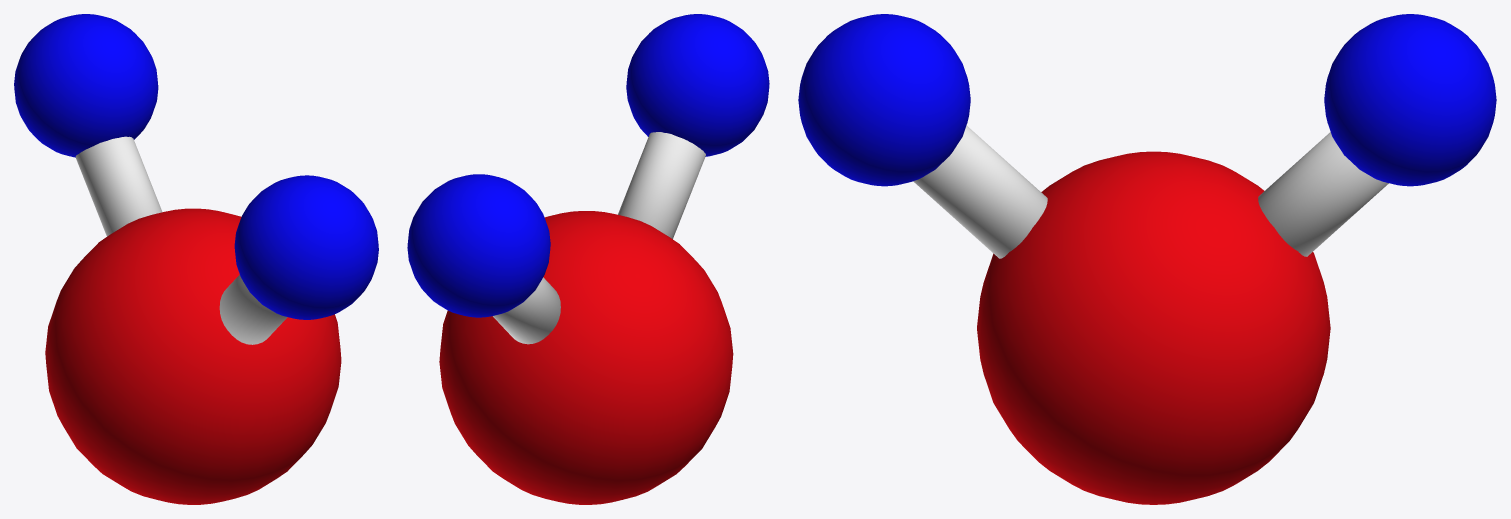
File: atom_water.glb
3 views of the same model, side by side, from view 1: azimuth 30°, elevation 25°; view 2: azimuth 150°, elevation 25°; view 3: azimuth 270°, elevation 25° (orthographic). The views are drawn at different scales.
Visible parts, largest first — view 1: Сфера, Сфера.001, Сфера.002, Цилиндр.001, Цилиндр; view 2: Сфера, Сфера.002, Сфера.001, Цилиндр, Цилиндр.001; view 3: Сфера, Сфера.002, Сфера.001, Цилиндр, Цилиндр.001.
Part boxes in pixels (box(x1,y1,x2,y2)): Сфера: box(45, 208, 341, 504); Сфера.001: box(234, 175, 378, 319); Сфера.002: box(14, 14, 158, 157); Цилиндр.001: box(75, 136, 162, 236); Цилиндр: box(219, 274, 287, 344); Сфера: box(439, 211, 733, 504); Сфера.002: box(407, 174, 550, 317); Сфера.001: box(626, 14, 769, 156); Цилиндр: box(618, 132, 705, 238); Цилиндр.001: box(493, 277, 560, 344); Сфера: box(977, 151, 1330, 504); Сфера.002: box(1324, 14, 1496, 186); Сфера.001: box(798, 14, 970, 186); Цилиндр: box(913, 125, 1047, 258); Цилиндр.001: box(1258, 132, 1388, 256).
Size of the model in its own units: 2 by 2.91 by 3.95.
